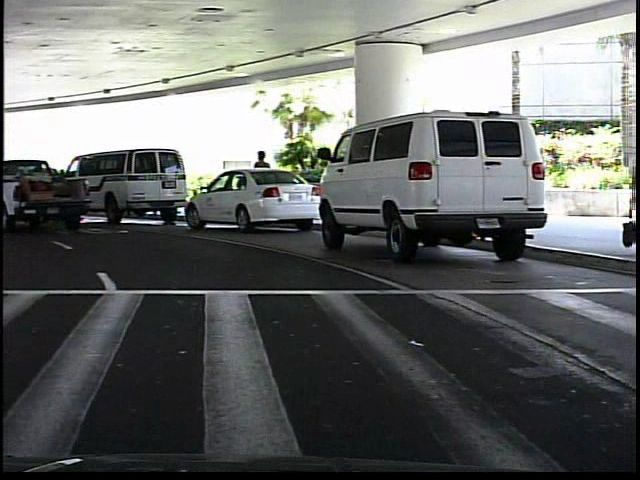person: (250, 146, 277, 218), (633, 139, 635, 253)
